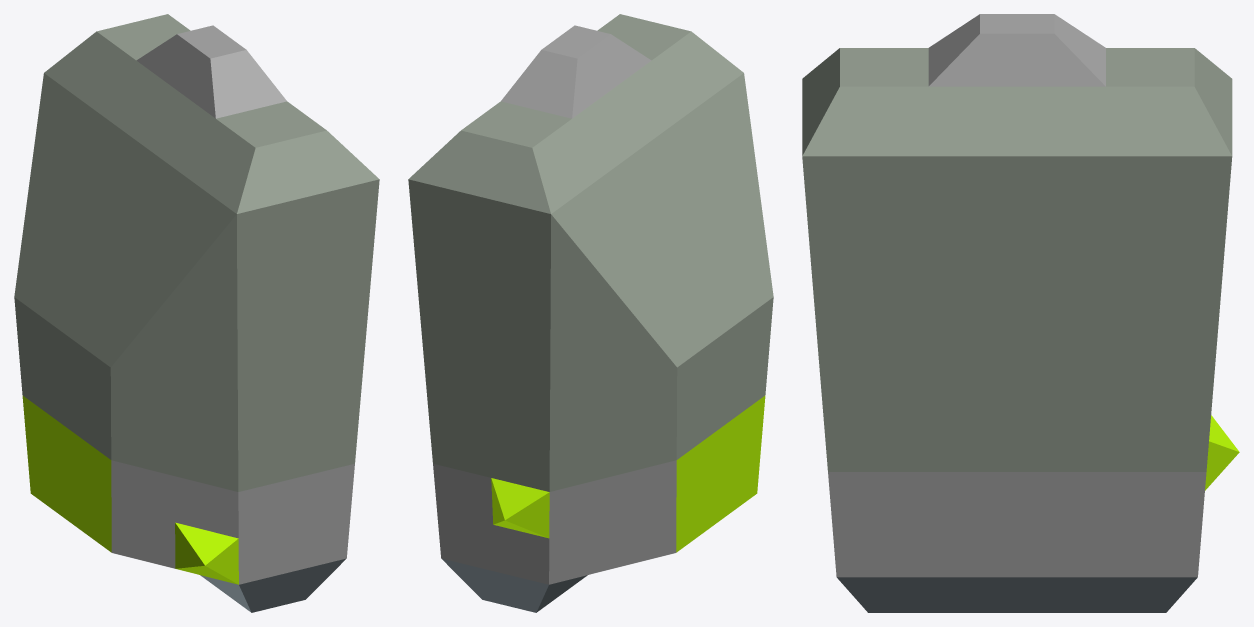
The model's file is AcidMutantTorso.fbx.
The picture shows the model from 3 angles, left to right: view 1: azimuth 30°, elevation 25°; view 2: azimuth 150°, elevation 25°; view 3: azimuth 270°, elevation 25°; orthographic projection. The views are drawn at different scales.
Visible parts, largest first — view 1: AcidMutantTorso; view 2: AcidMutantTorso; view 3: AcidMutantTorso.
Boxes of the visible parts, x1,y1,x2,y2 form: AcidMutantTorso: (14,14,379,612); AcidMutantTorso: (408,14,773,612); AcidMutantTorso: (802,14,1239,612).
Size of the model in its own units: 0.3206 by 0.7157 by 0.494.
